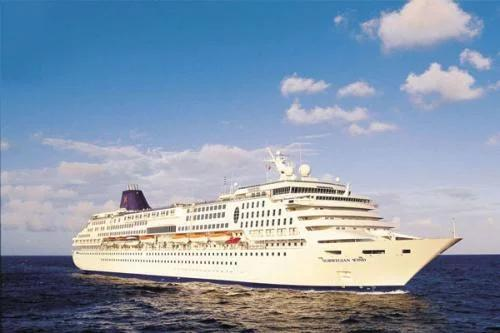youlun: (72, 151, 462, 287)
